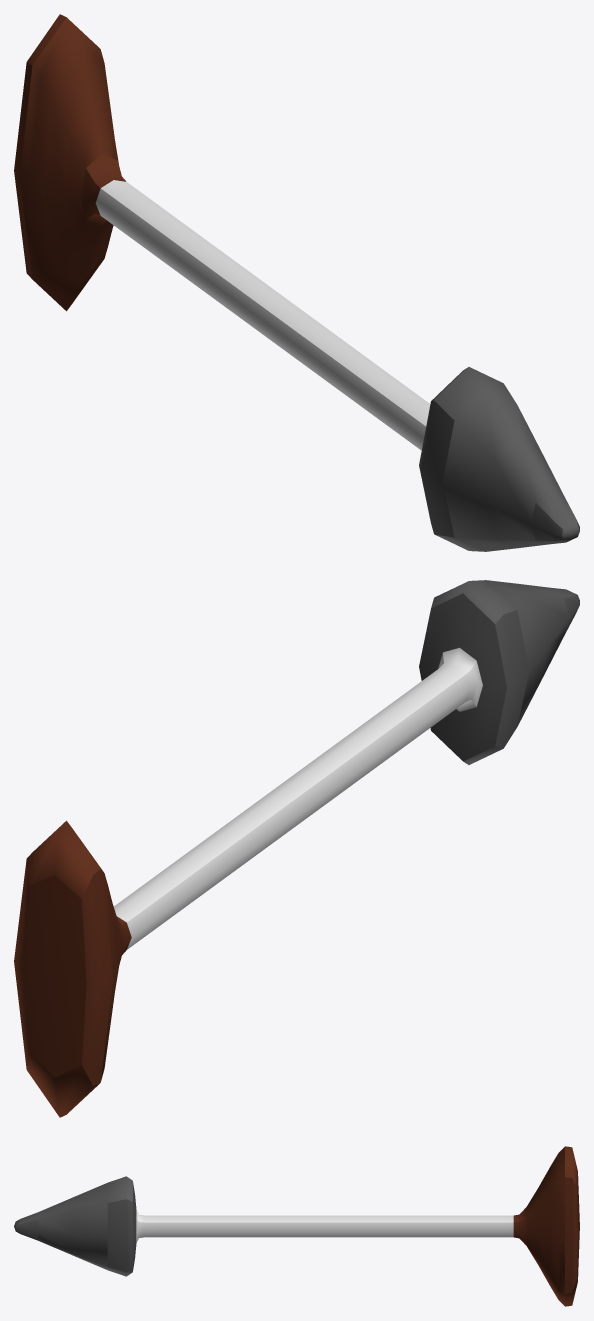
The model's file is Arrow.fbx.
3 views of the same model, one above another, from view 1: azimuth 30°, elevation 25°; view 2: azimuth 150°, elevation 25°; view 3: azimuth 270°, elevation 25° (orthographic). The views are drawn at different scales.
Visible parts, largest first — view 1: Cube.003; view 2: Cube.003; view 3: Cube.003.
Part boxes in pixels (x1,y1,x2,y2): Cube.003: [14, 14, 579, 551]; Cube.003: [14, 580, 579, 1117]; Cube.003: [14, 1146, 579, 1306].
Bounding box in the file's own units: 22.28 × 65.41 × 209.
